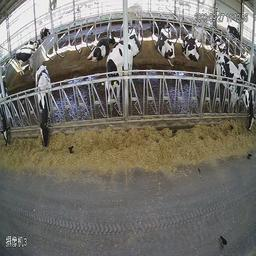cow: (96, 38, 133, 101), (212, 52, 247, 106), (34, 69, 51, 148), (236, 67, 254, 132), (1, 79, 13, 149), (16, 39, 39, 75), (89, 32, 116, 62), (154, 26, 173, 59), (181, 31, 199, 60), (127, 23, 141, 55), (240, 45, 254, 73), (211, 33, 228, 54), (127, 4, 142, 24), (192, 24, 207, 43), (227, 24, 243, 40), (150, 18, 166, 33), (39, 24, 51, 43)
